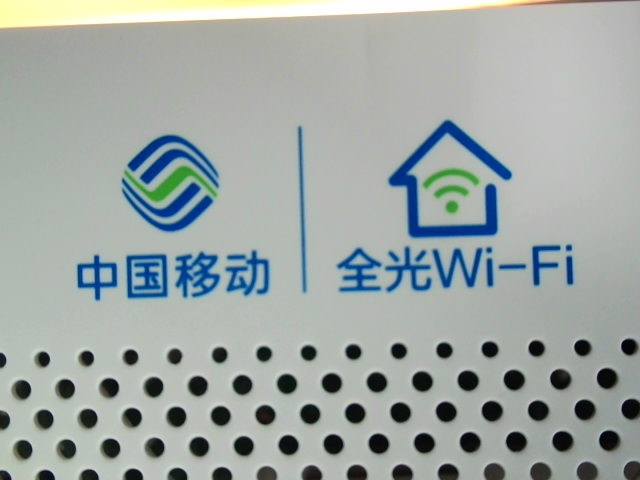BJ_QuanGuangMobile: (64, 127, 584, 303)
